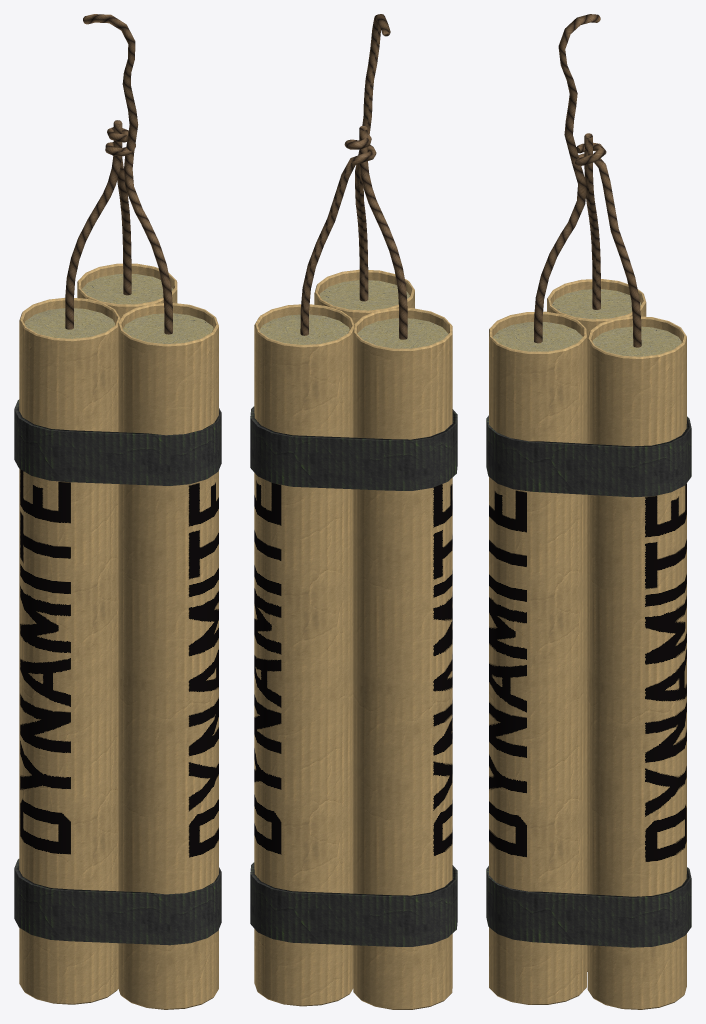
The model's file is Dynamite.fbx.
3 renders of one model, left to right at view 1: azimuth 30°, elevation 25°; view 2: azimuth 150°, elevation 25°; view 3: azimuth 270°, elevation 25°, orthographic.
Parts seen in each view (by area): view 1: Dynamite; view 2: Dynamite; view 3: Dynamite.
Part boxes in pixels (x1,y1,x2,y2): Dynamite: (14, 14, 221, 1009); Dynamite: (250, 14, 457, 1009); Dynamite: (486, 14, 691, 1009).
Bounding box in the file's own units: 11.76 × 62.51 × 12.24.
